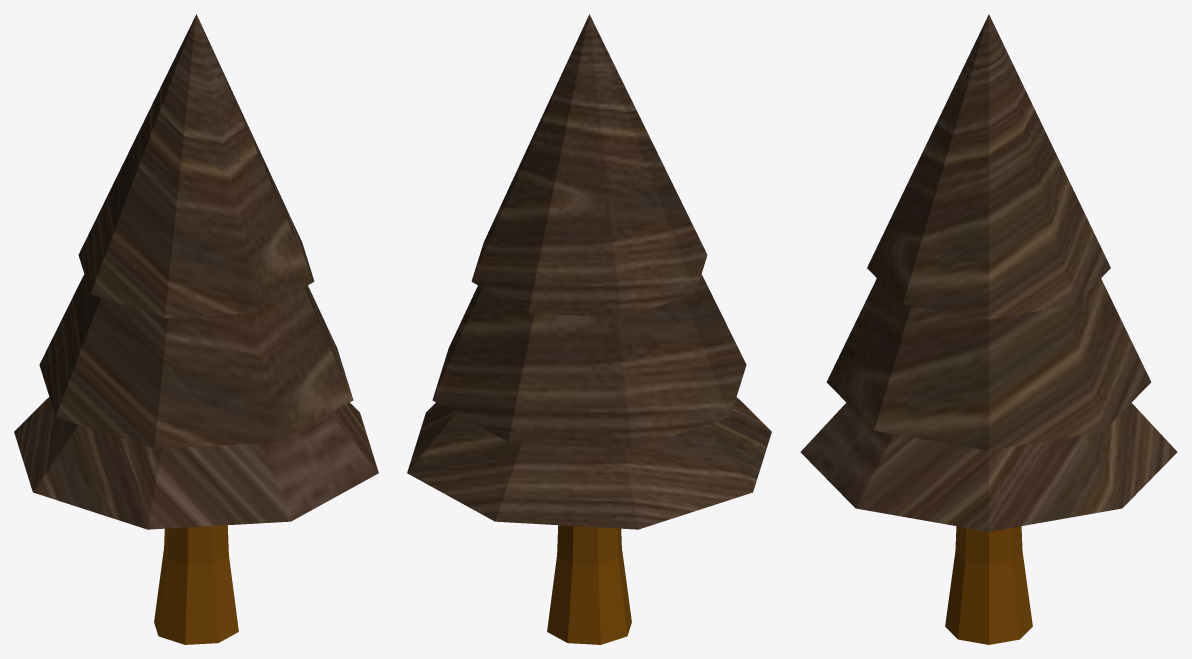
Rendered from Tree3_modified.gltf.
3 renders of one model, left to right at view 1: azimuth 30°, elevation 25°; view 2: azimuth 150°, elevation 25°; view 3: azimuth 270°, elevation 25°, orthographic.
Visible parts, largest first — view 1: Tree3_modified; view 2: Tree3_modified; view 3: Tree3_modified.
Part boxes in pixels (bbox=[...]): Tree3_modified: bbox=[14, 14, 378, 644]; Tree3_modified: bbox=[407, 14, 771, 644]; Tree3_modified: bbox=[800, 14, 1177, 644].
Bounding box in the file's own units: 149 × 266 × 149.
3 materials, 1 textured.
